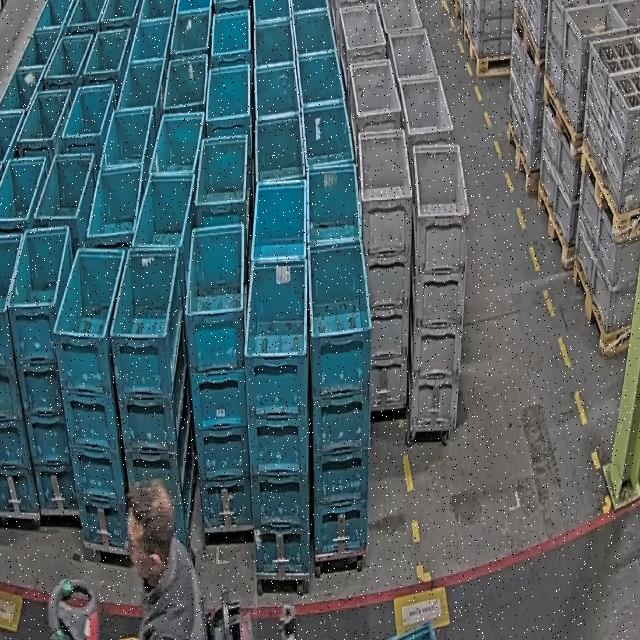4G: (410, 142, 470, 430), (357, 128, 413, 408)
B4: (109, 244, 193, 550), (53, 248, 133, 552), (6, 224, 80, 512), (306, 238, 373, 556), (183, 224, 253, 528), (243, 257, 309, 575)
